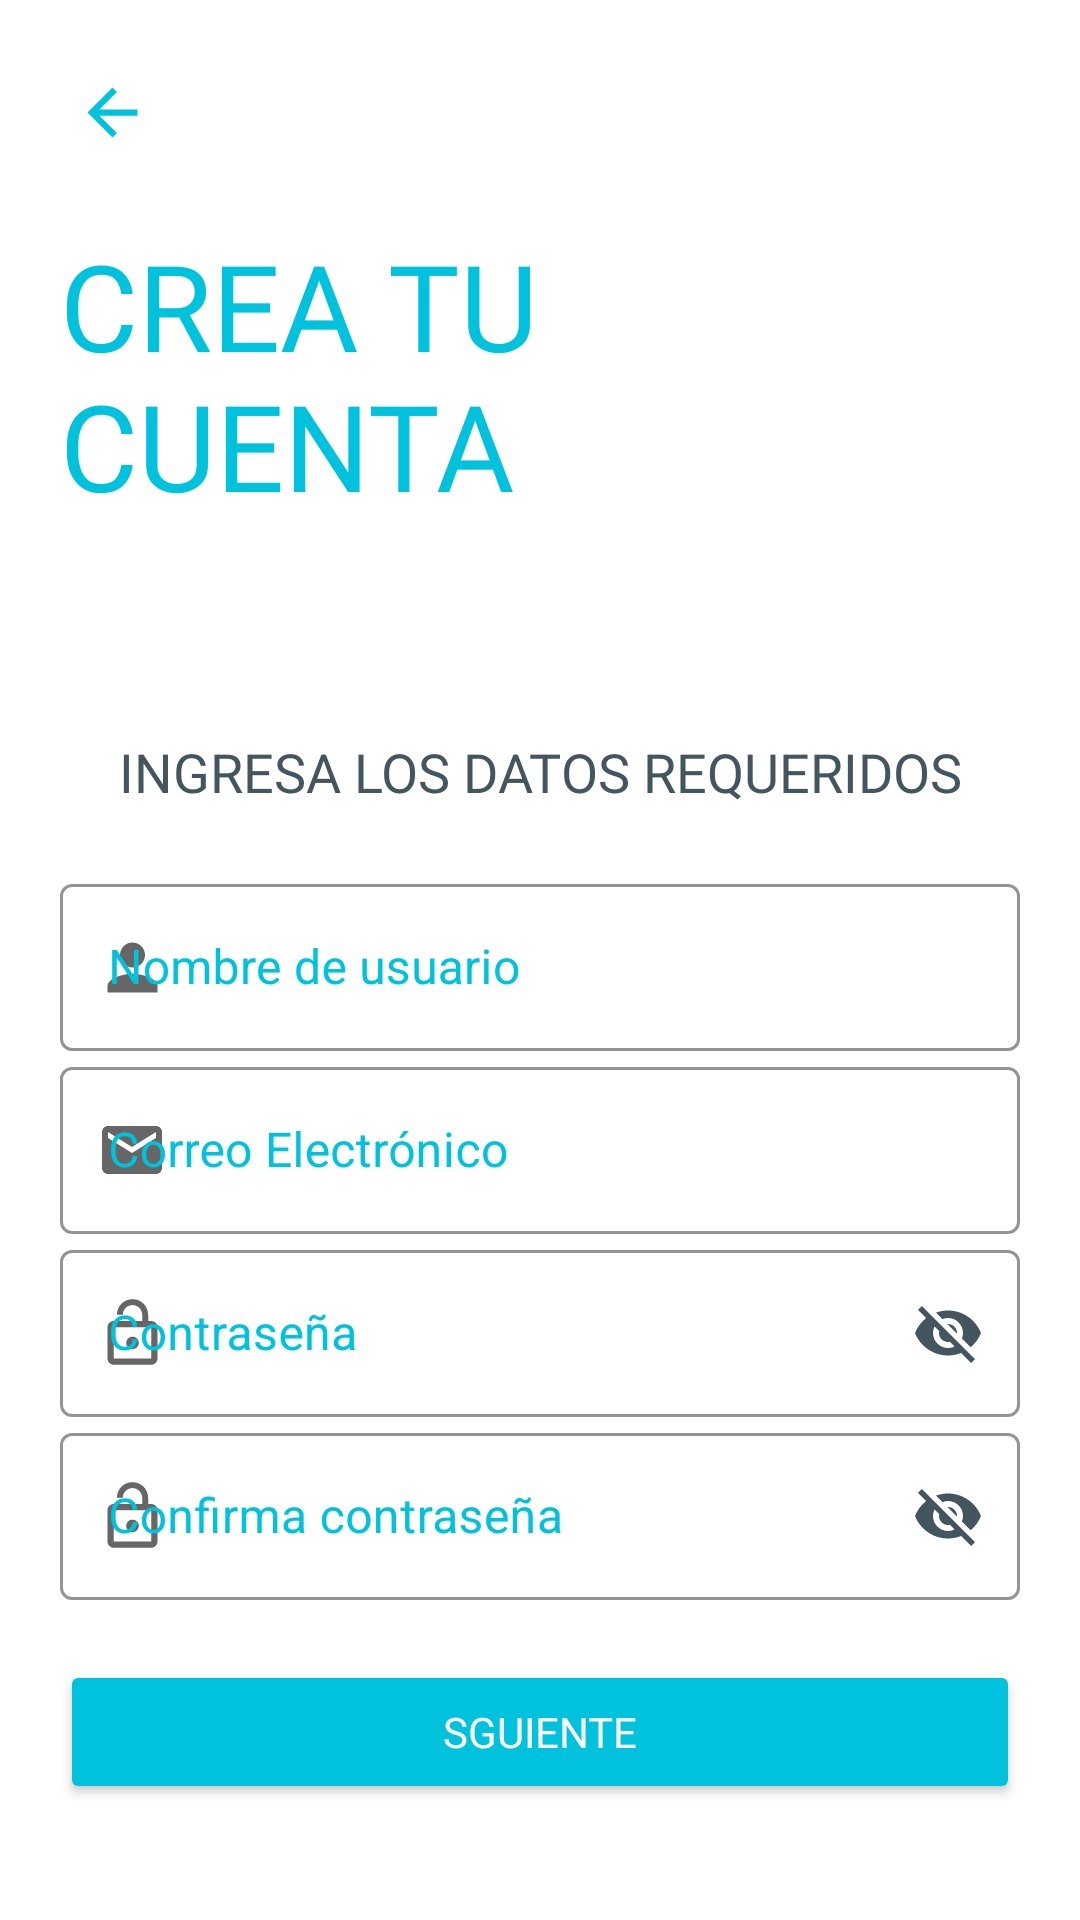

Named icons in this screenshot (1080px×1920px) and their centers, [x,y]:
Regresar: [112,112]
